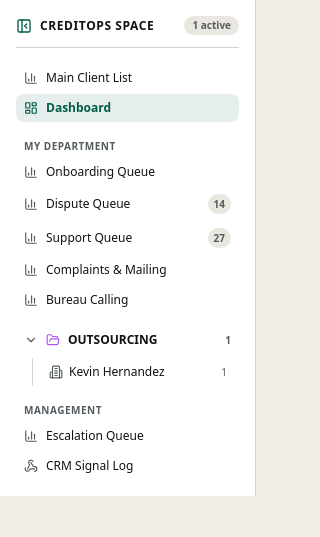
Test case: the collapsed rail carries the same authorization as the tree › shows management destinations to somebody who has them
Click the button with aria-label "Collapse": (85, 26) left=16, top=18, right=154, bottom=34
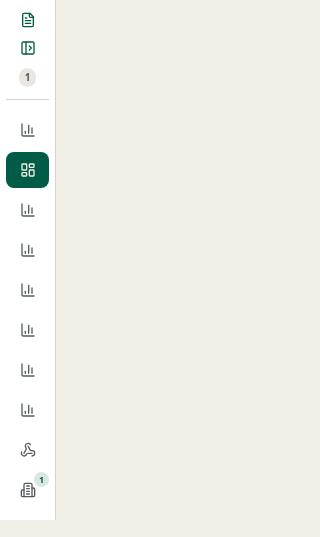
Expected: the button named "Kevin Hernandez" is shown, left=6, top=472, right=49, bottom=508
Expected: the button named "Dashboard" is shown, left=6, top=152, right=49, bottom=188
